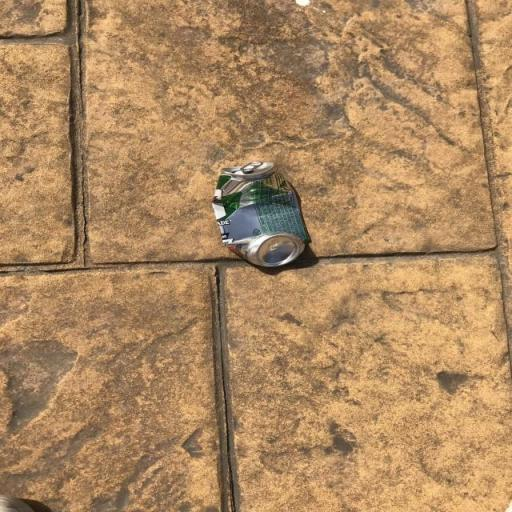metal: (199, 136, 371, 302)
